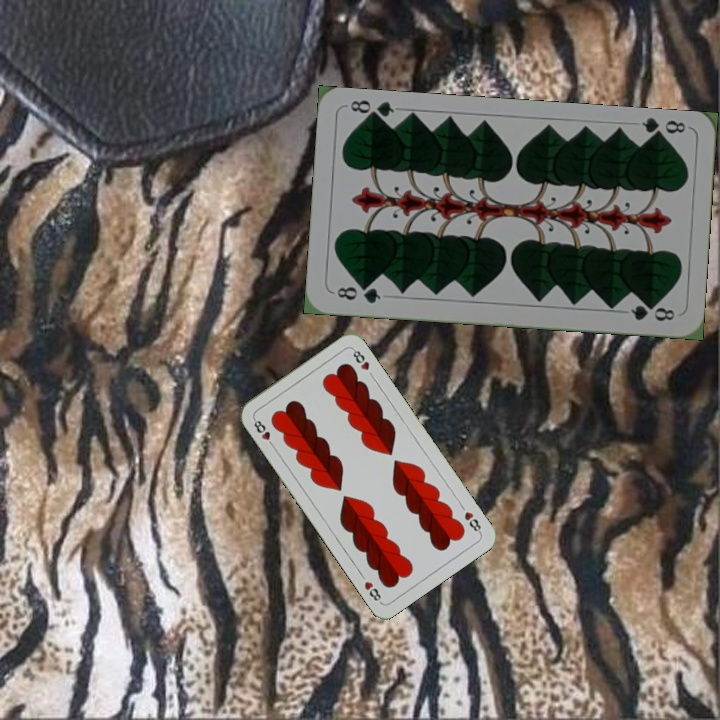G8: (638, 114, 688, 143), (333, 281, 384, 306)
H8: (249, 414, 277, 450), (460, 507, 484, 536)
